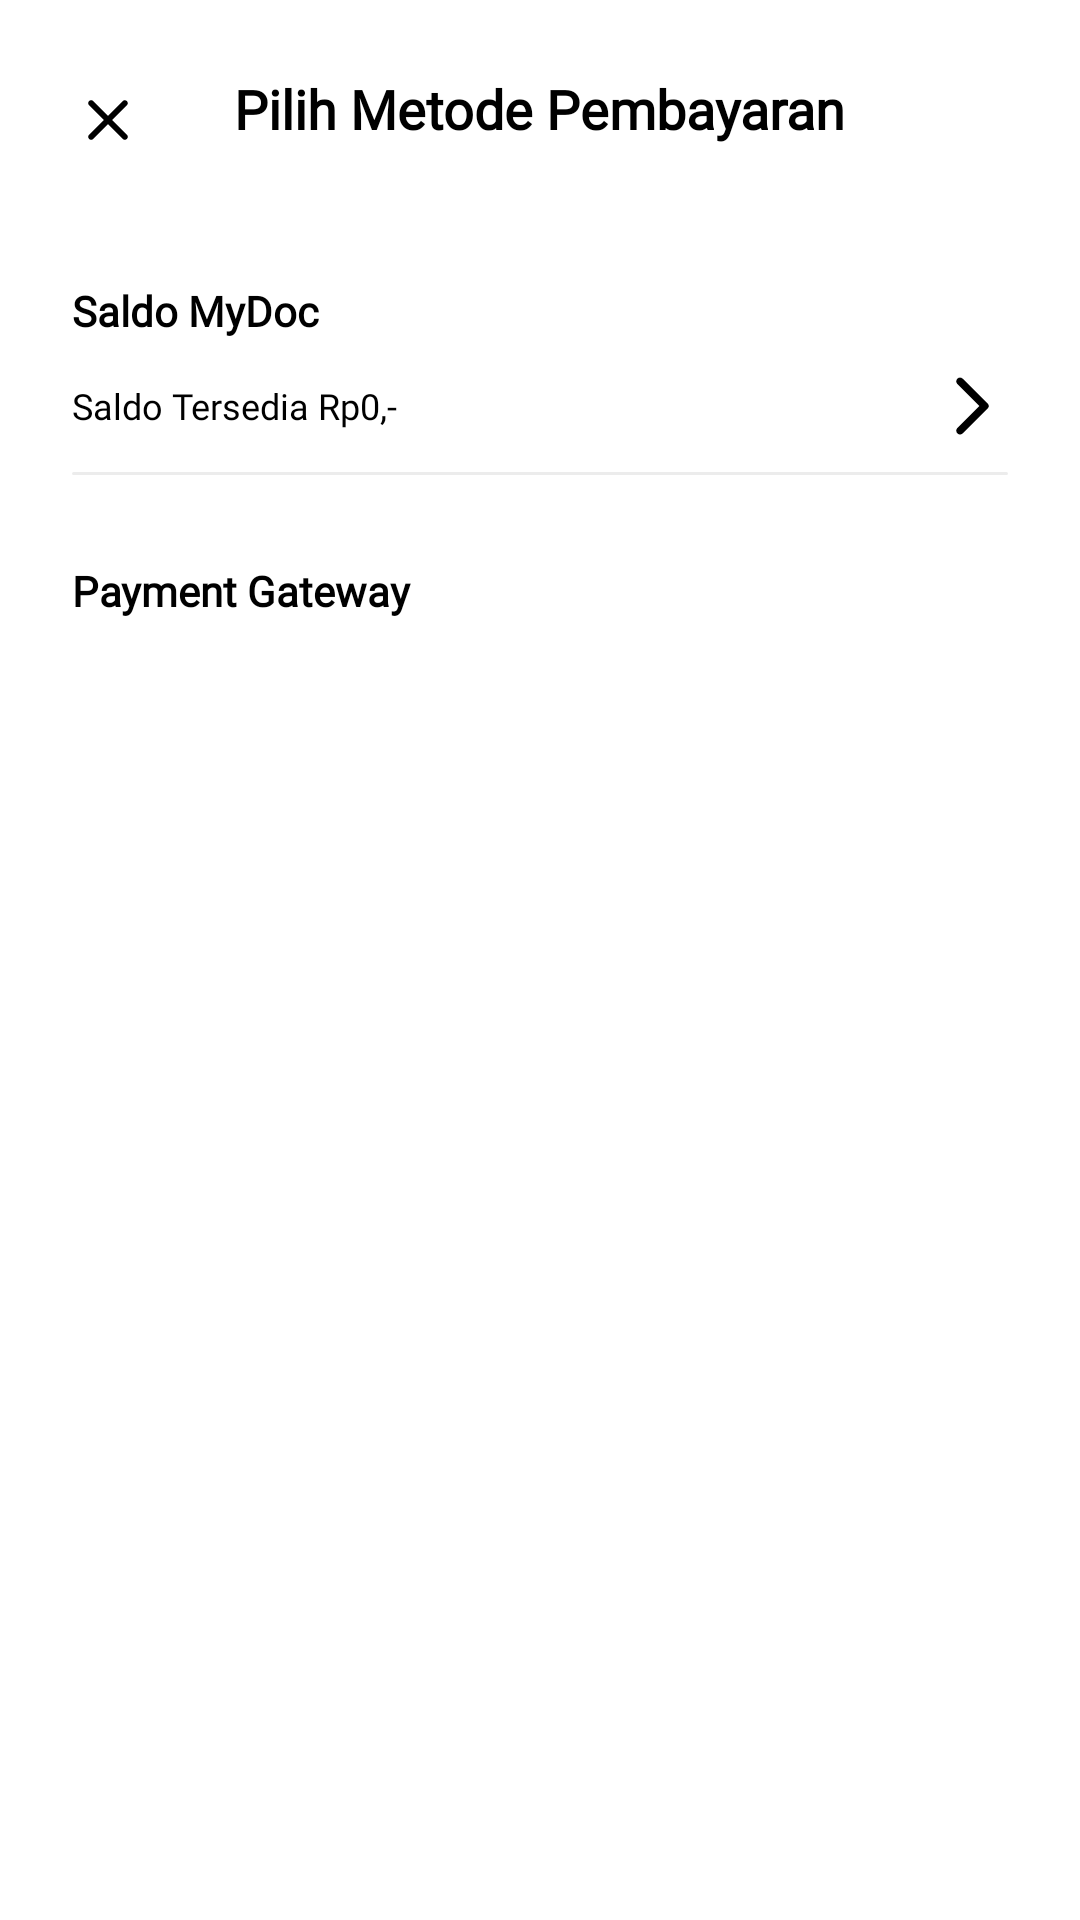

Icon bounding boxes for this 1080x1920 phone screenshot, format (x1, y1, x2, y2):
arrow right: (956, 377, 989, 435)
close: (88, 100, 128, 140)
